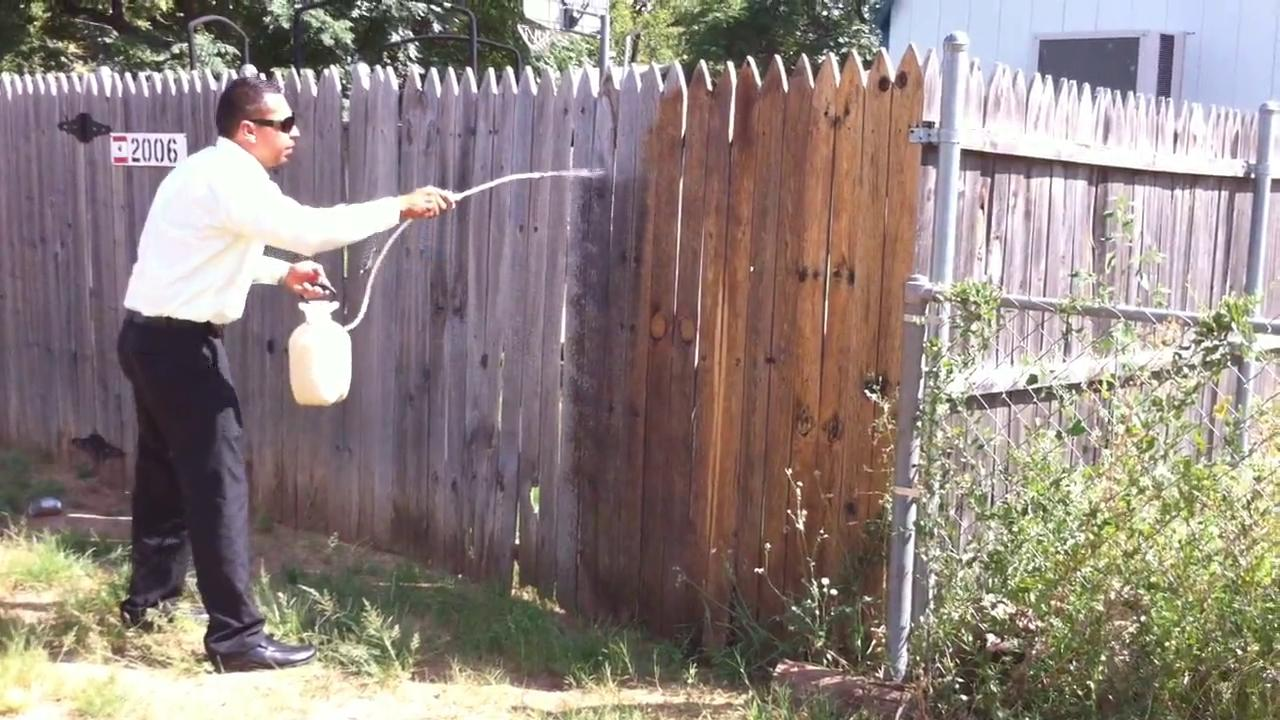victim: (116, 75, 467, 664)
